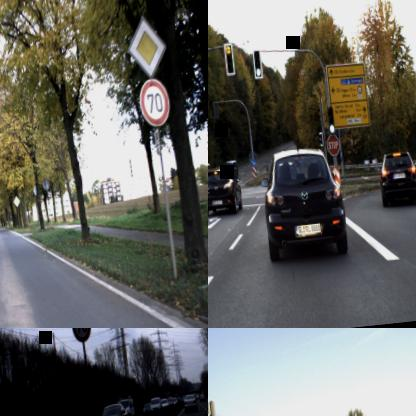STOP: (326, 133, 340, 155)
keep right: (250, 157, 256, 167)
priority road: (124, 14, 169, 80), (12, 194, 20, 208)
speed limit 70: (138, 78, 171, 128), (70, 328, 93, 343)
